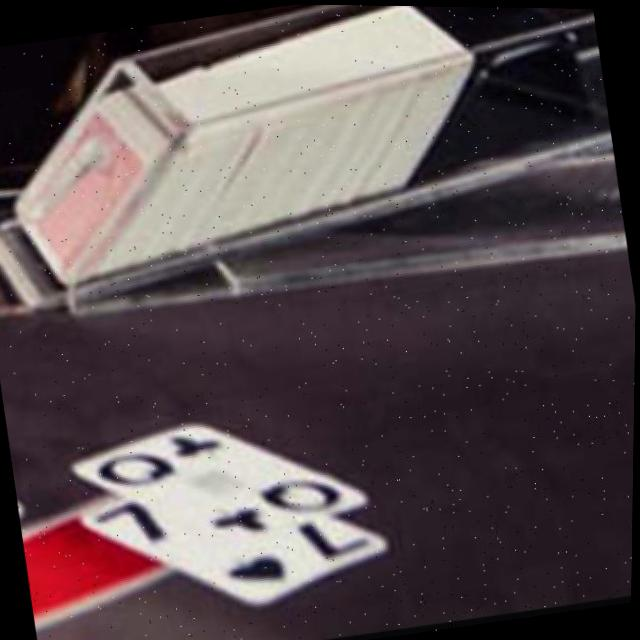Card-7: (82, 495, 390, 605)
Card-Q: (72, 421, 371, 548)
